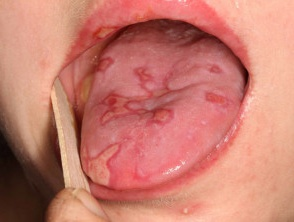SJS-TEN: (82, 59, 182, 158), (81, 133, 124, 196), (93, 49, 118, 81)
